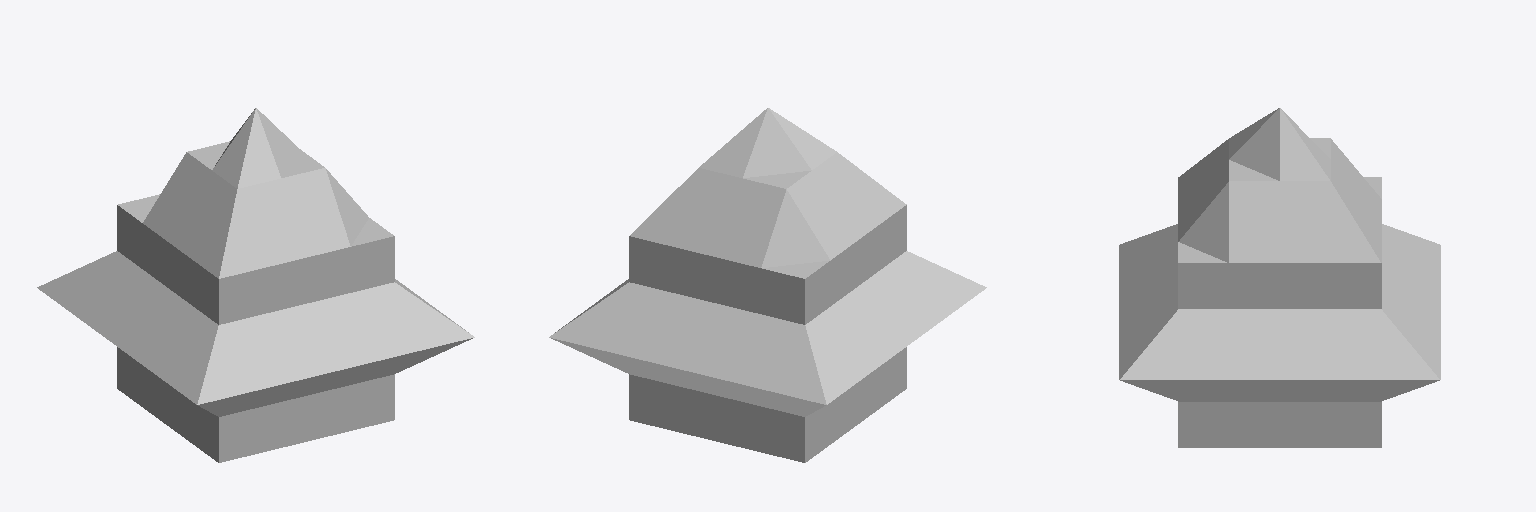
The model's file is Spining_Platform.obj.
3 views of the same model, side by side, from view 1: azimuth 30°, elevation 25°; view 2: azimuth 150°, elevation 25°; view 3: azimuth 270°, elevation 25° (orthographic).
Parts seen in each view (by area): view 1: Cube; view 2: Cube; view 3: Cube.
Boxes of the visible parts, x1,y1,x2,y2 form: Cube: [37, 108, 474, 462]; Cube: [549, 108, 986, 462]; Cube: [1119, 108, 1440, 447].
Size of the model in its own units: 3.16 by 3.23 by 3.16.